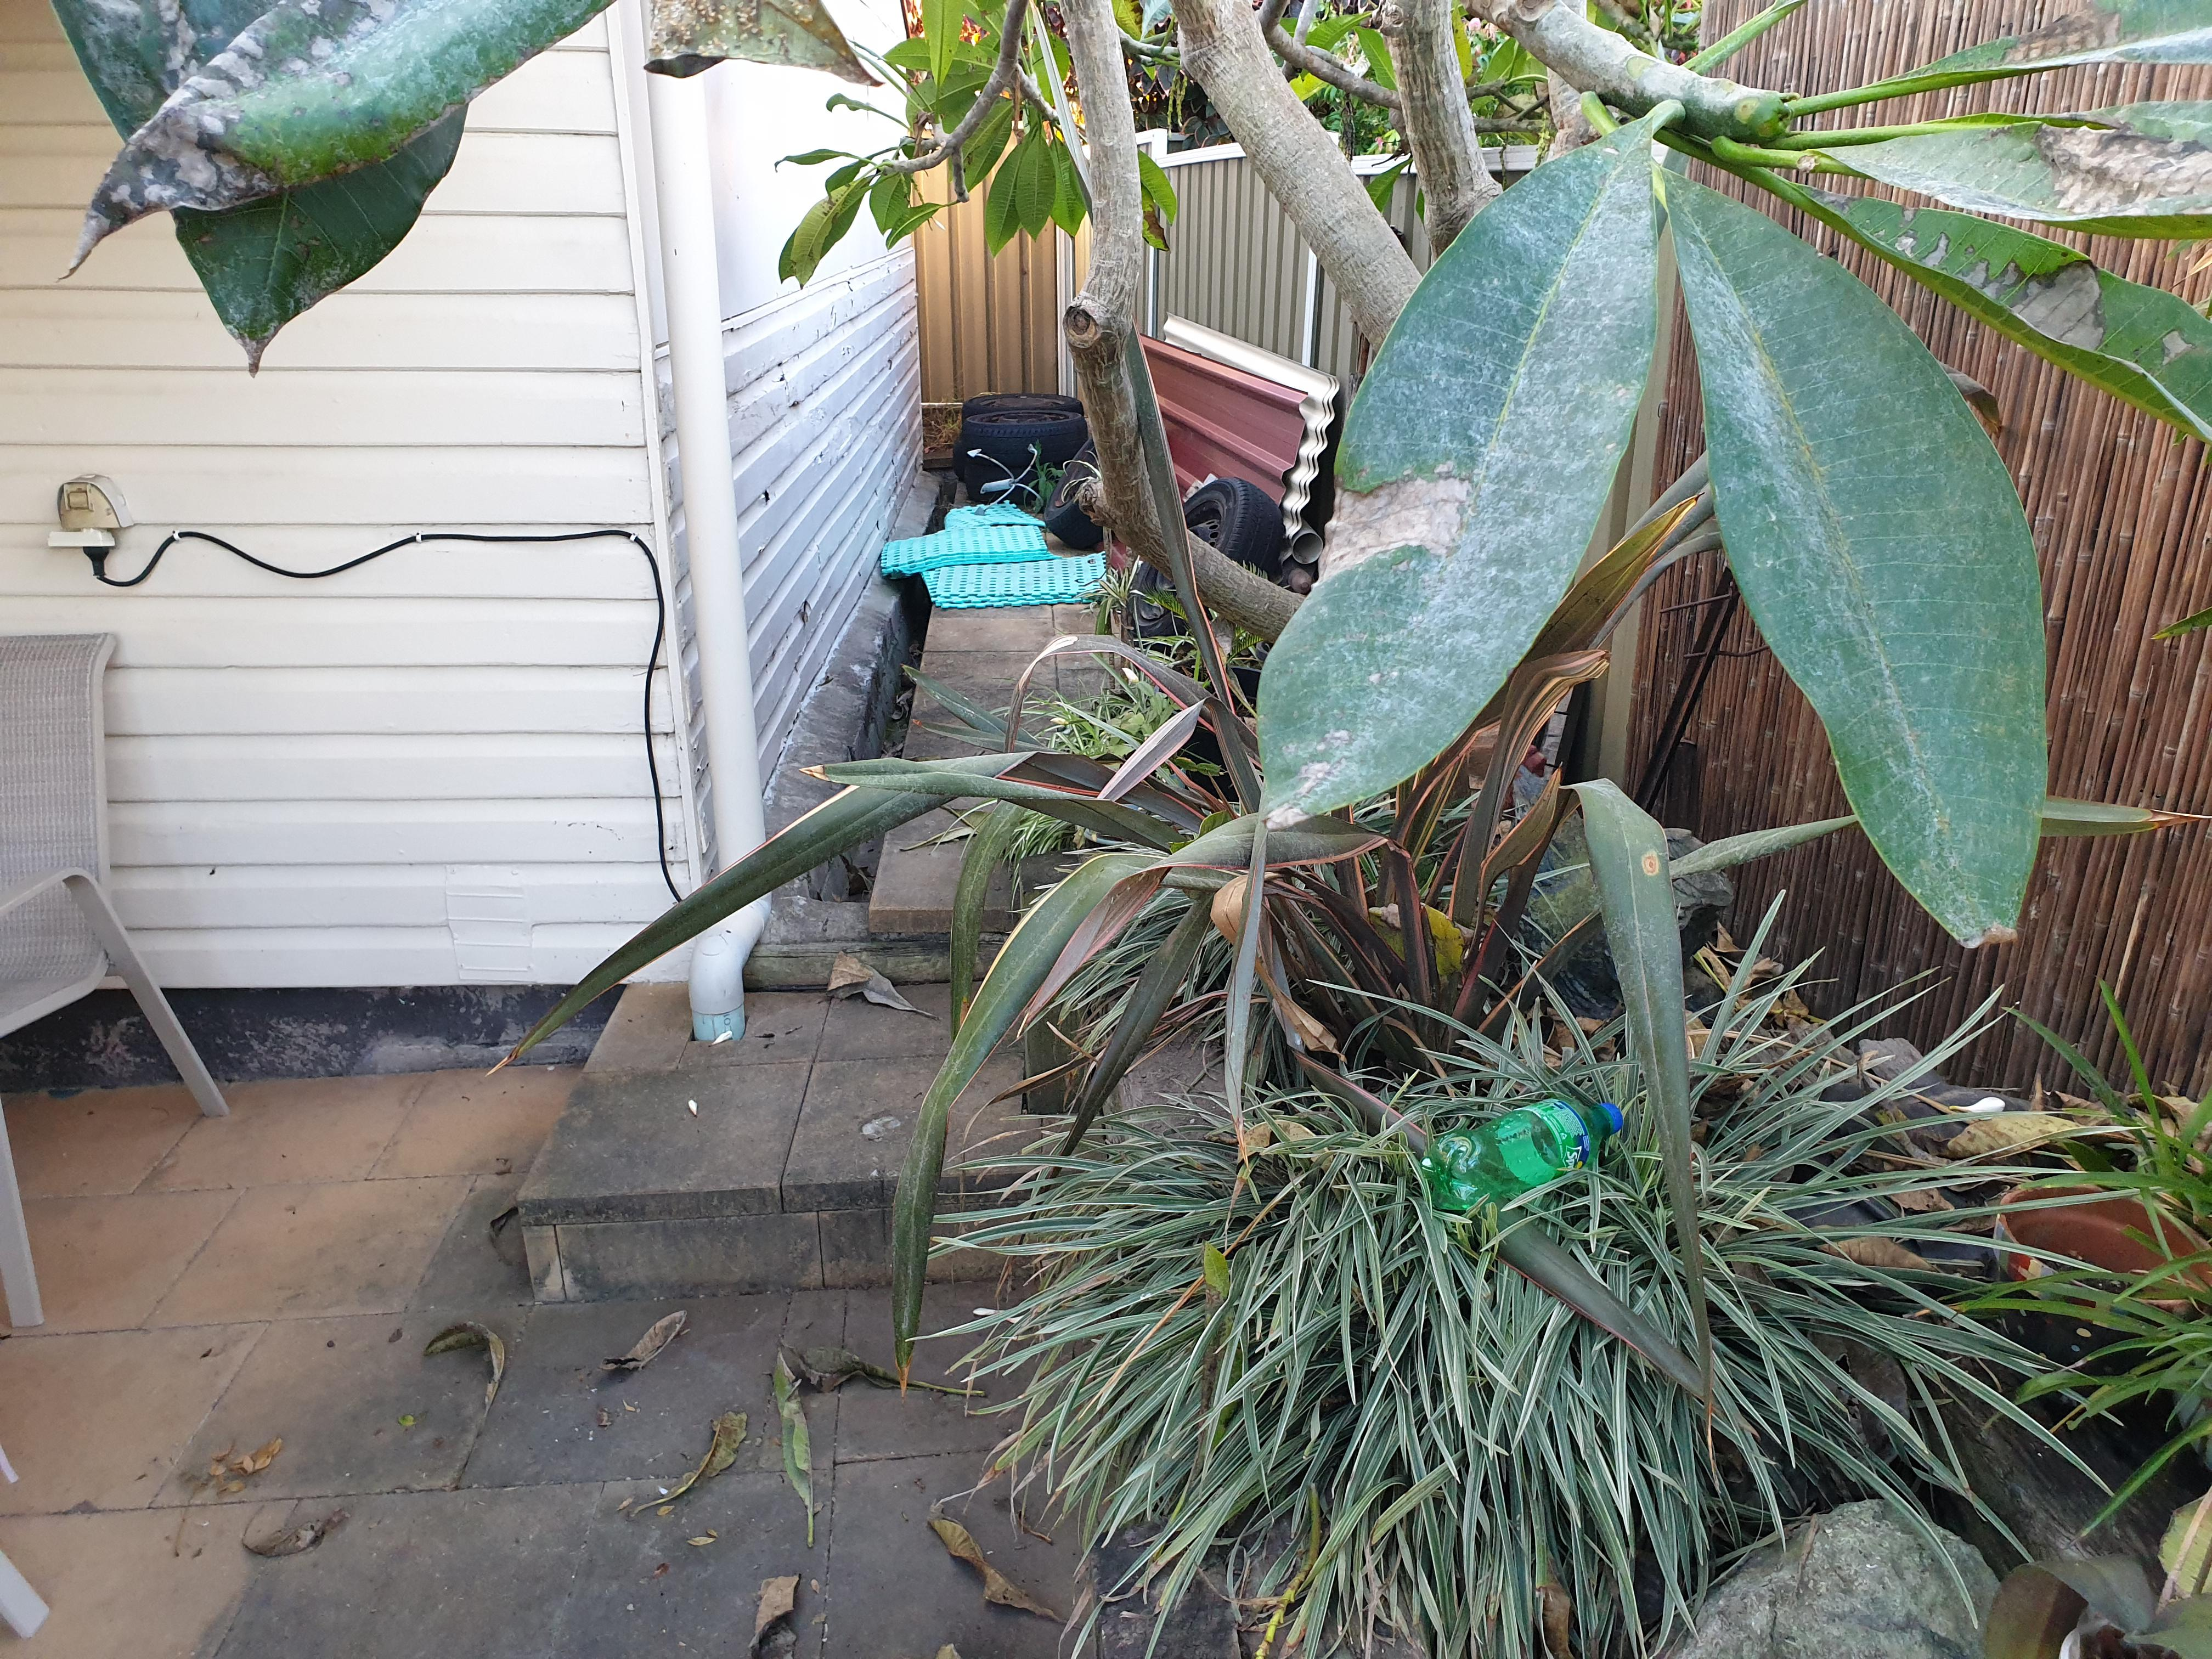Plastic Bottle: (1420, 1096, 1623, 1211)
